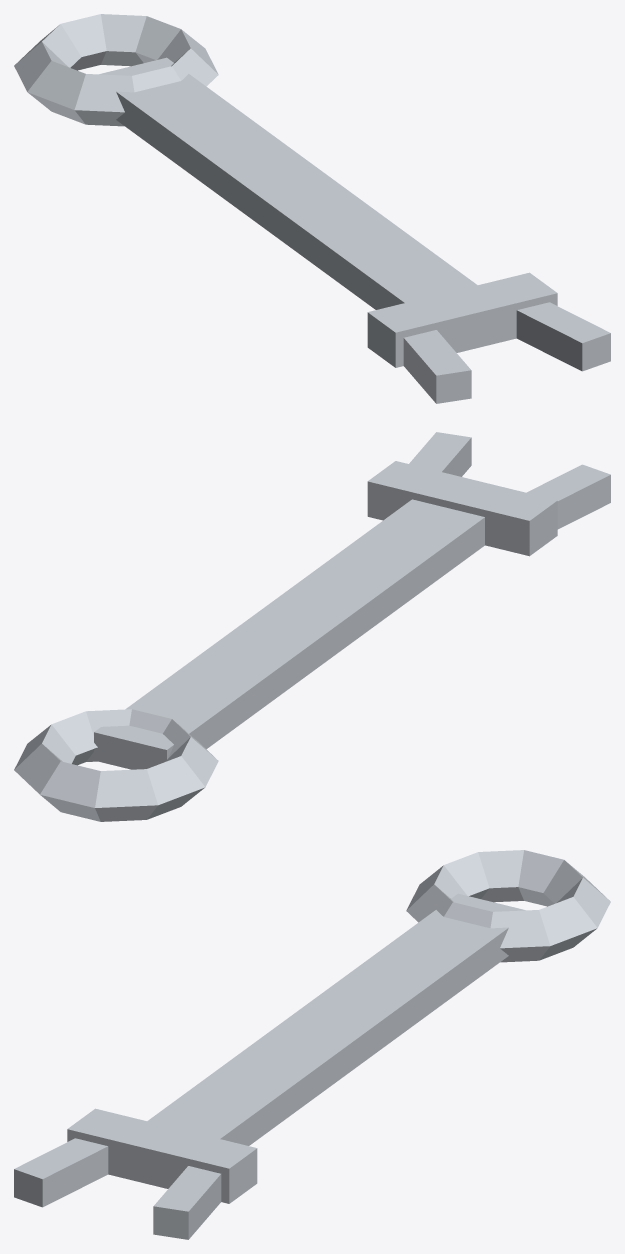
The model's file is Wrench.fbx.
3 views of the same model, one above another, from view 1: azimuth 30°, elevation 25°; view 2: azimuth 150°, elevation 25°; view 3: azimuth 330°, elevation 25° (orthographic).
Visible parts, largest first — view 1: Wrench; view 2: Wrench; view 3: Wrench.
Boxes of the visible parts, x1,y1,x2,y2 form: Wrench: [14, 14, 610, 403]; Wrench: [14, 432, 610, 821]; Wrench: [14, 850, 610, 1239].
Size of the model in its own units: 0.0528 by 0.0144 by 0.2357.
1 material, 1 textured.
